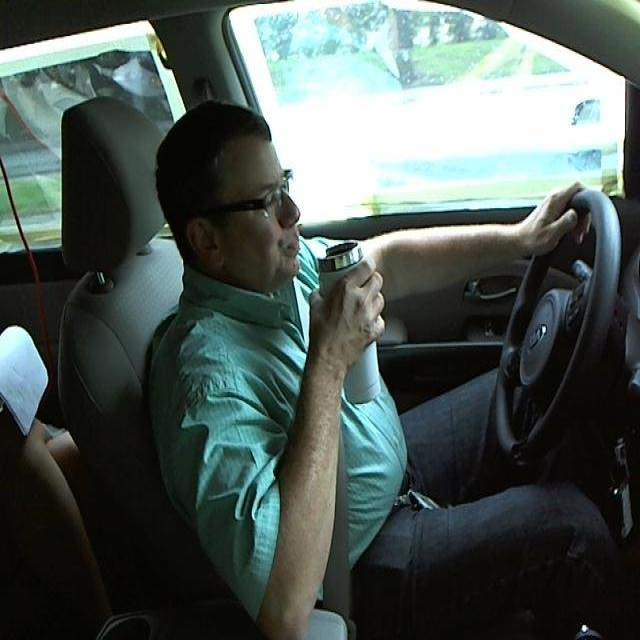Seatbelt: (319, 245, 380, 407)
